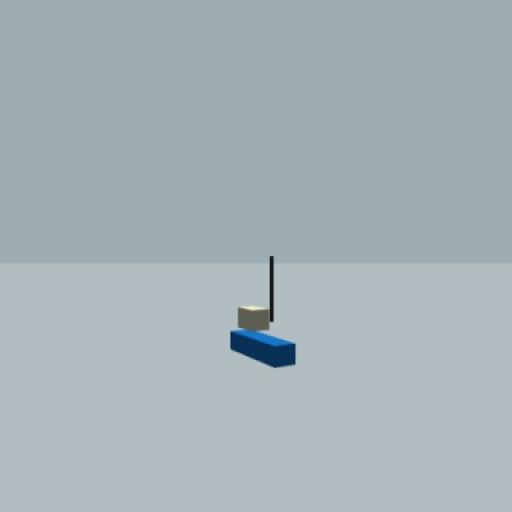fishing_boat: (230, 253, 298, 371)
